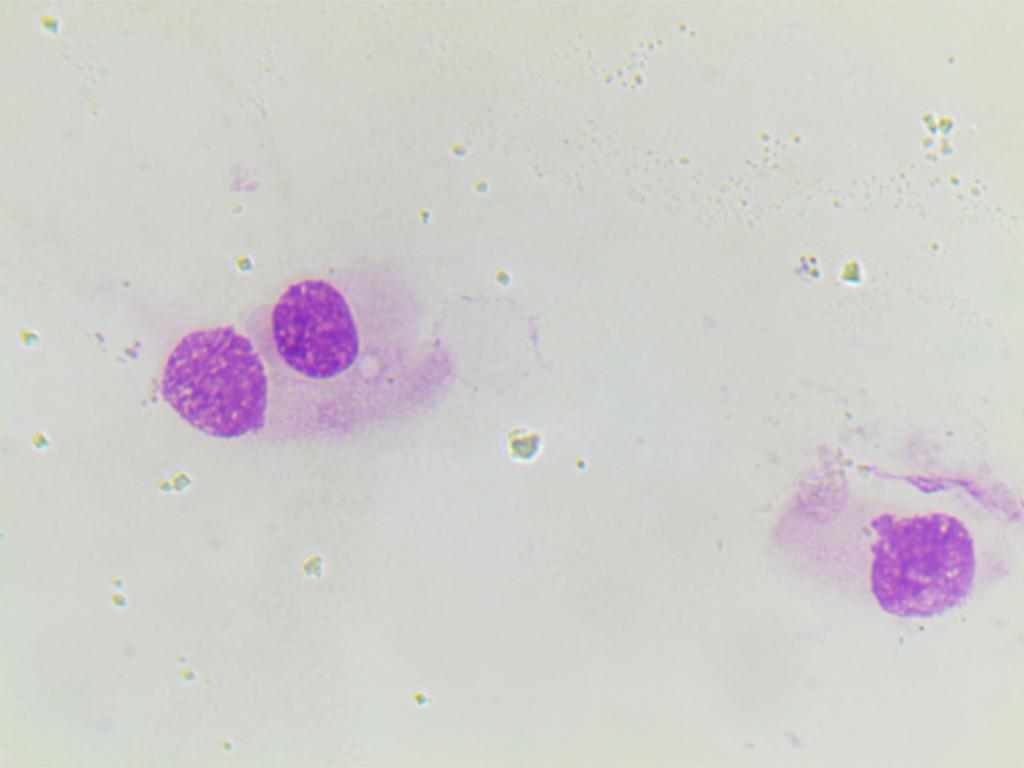artifact: (863, 492, 991, 623), (164, 324, 283, 455), (265, 274, 364, 376)
